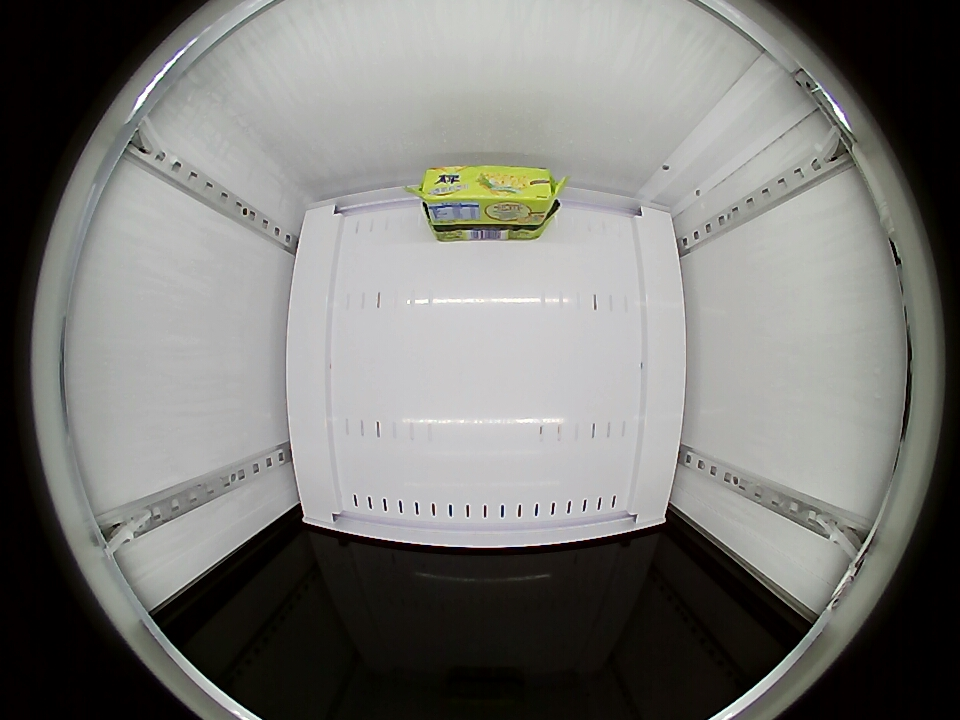taipingshuda: (420, 163, 561, 230)
